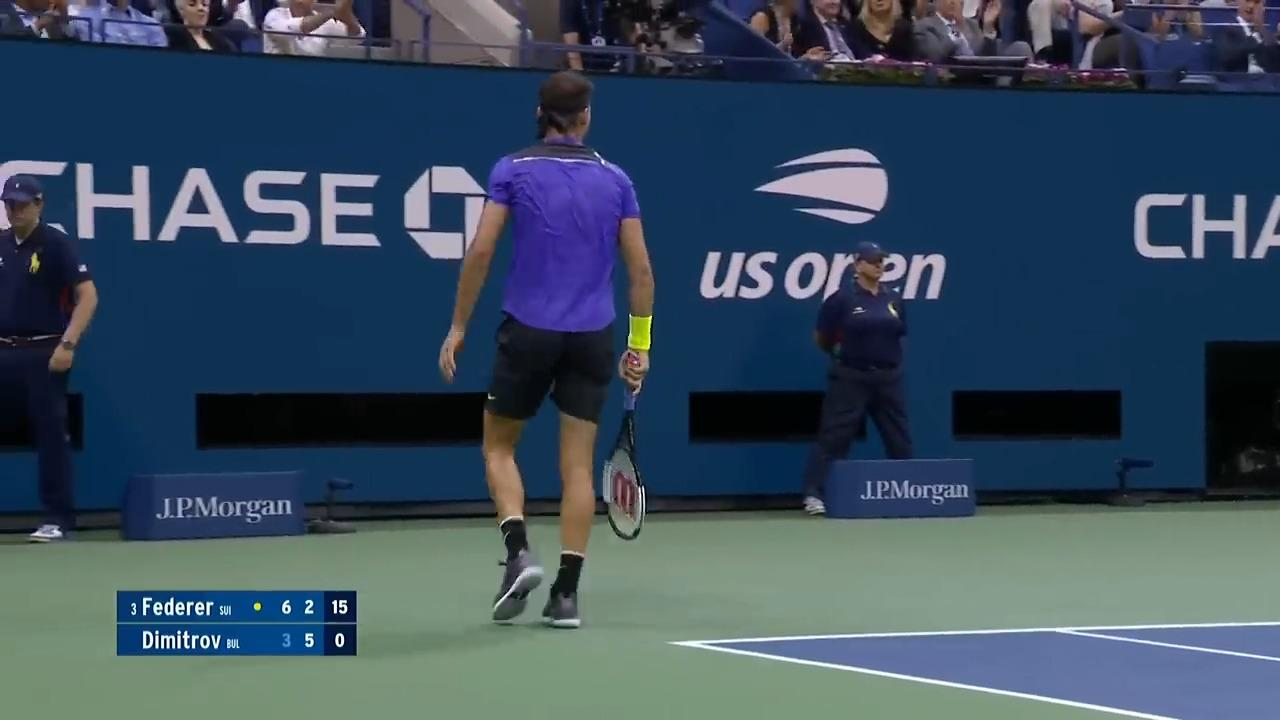tennis racket: (603, 385, 645, 540), (629, 353, 638, 367)
